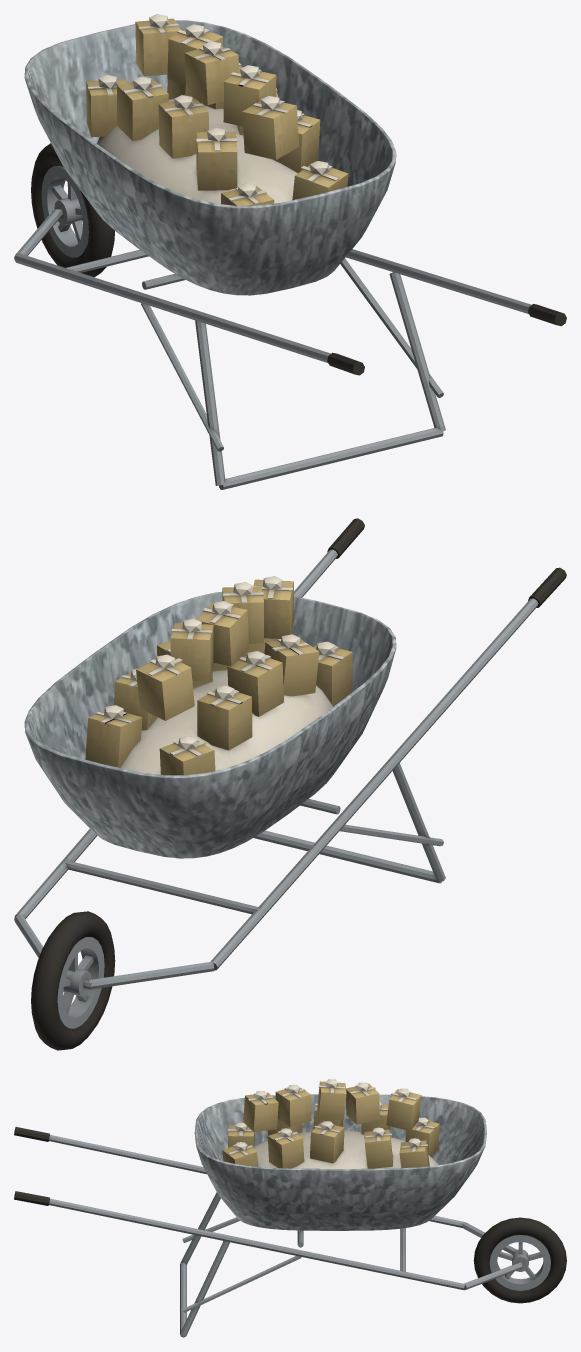
File: wheelbarrow.glb
The picture shows the model from 3 angles, top to bottom: view 1: azimuth 30°, elevation 25°; view 2: azimuth 150°, elevation 25°; view 3: azimuth 270°, elevation 25°; orthographic projection. The views are drawn at different scales.
Parts seen in each view (by area): view 1: wheelbarrow; view 2: wheelbarrow; view 3: wheelbarrow.
Part boxes in pixels (x1=…): wheelbarrow: x1=14, y1=14, x2=566, y2=489; wheelbarrow: x1=14, y1=518, x2=566, y2=1050; wheelbarrow: x1=14, y1=1079, x2=566, y2=1337.
Size of the model in its own units: 0.7383 by 1 by 2.26.
1 material, 1 textured.
